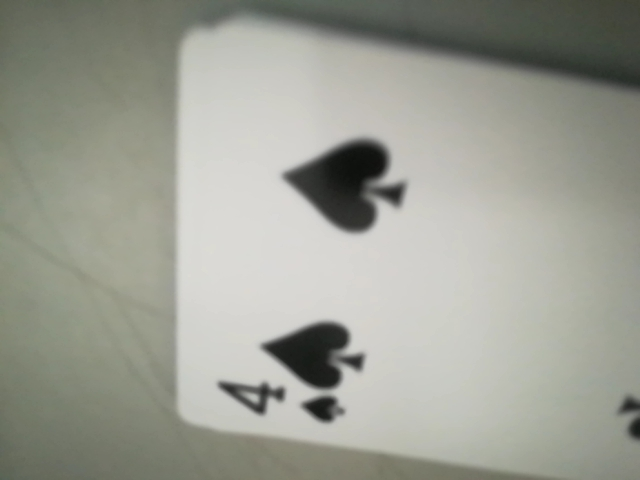ht 4: (204, 374, 362, 433)
